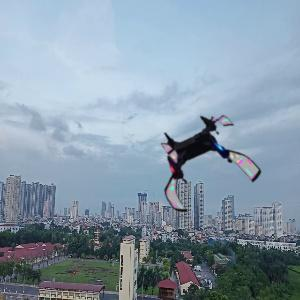drone: (149, 112, 256, 219)
